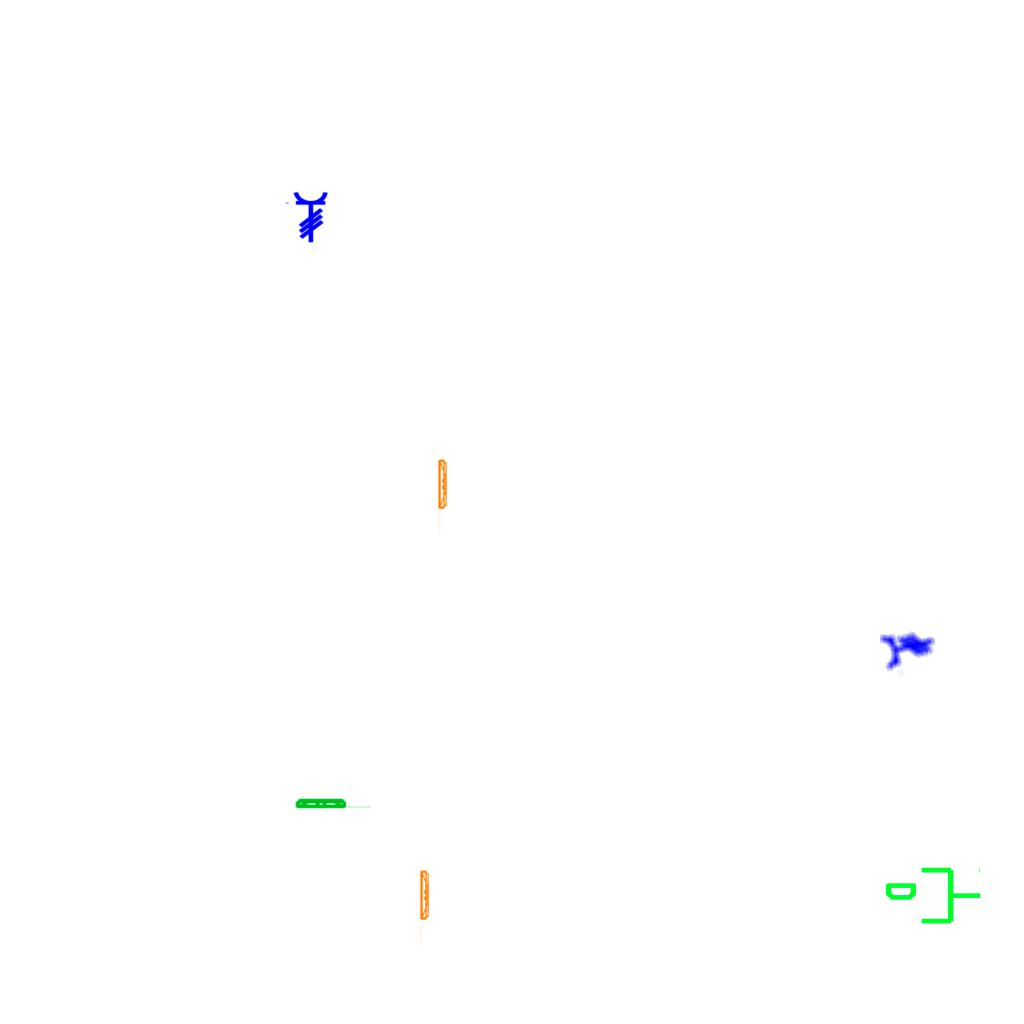CEE_Drehstrom_Steckdose_16_32_A: (878, 622, 941, 680), (284, 191, 329, 243)
Datenanschluss_einfach: (883, 863, 983, 932)
Sicherheitsleuchte_Wandeinbau: (419, 868, 431, 947), (294, 797, 373, 809), (437, 457, 449, 536)
